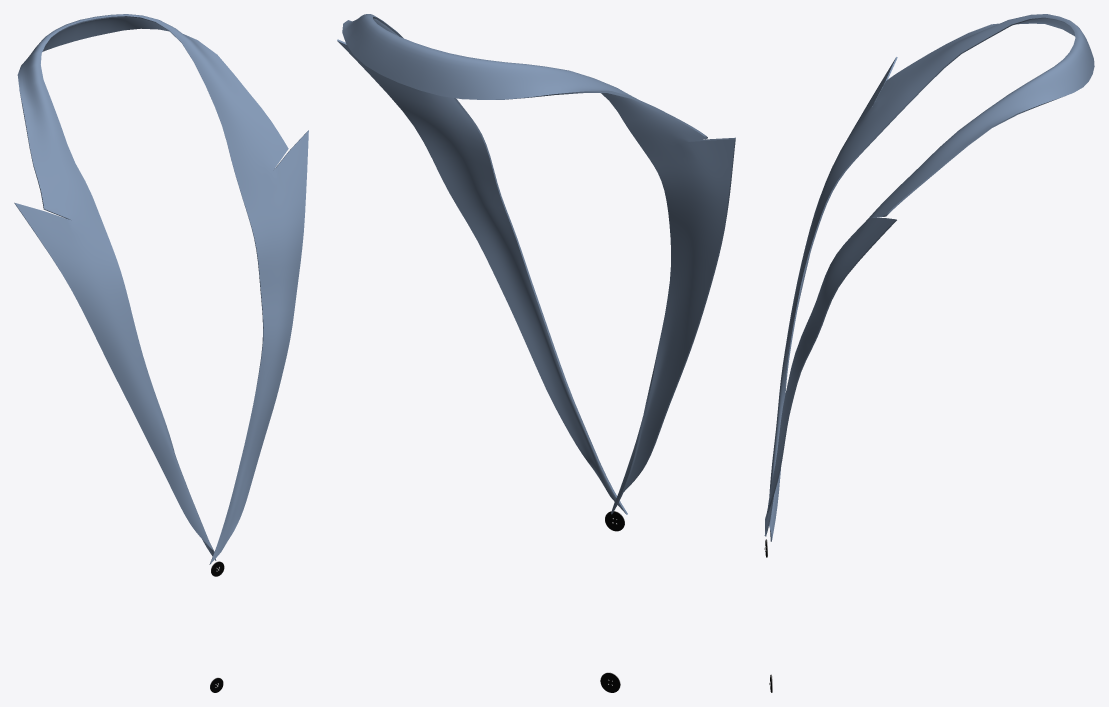
Rendered from SM_CarlosSA_Jacket_SingleBreasted_Lapel_Peak7CM.fbx.
3 renders of one model, left to right at view 1: azimuth 30°, elevation 25°; view 2: azimuth 150°, elevation 25°; view 3: azimuth 270°, elevation 25°, orthographic. The views are drawn at different scales.
Parts seen in each view (by area): view 1: SM_CarlosSA_Jacket_SingleBreasted_Lapel_Peak7CM; view 2: SM_CarlosSA_Jacket_SingleBreasted_Lapel_Peak7CM; view 3: SM_CarlosSA_Jacket_SingleBreasted_Lapel_Peak7CM.
Part boxes in pixels (x1=…): SM_CarlosSA_Jacket_SingleBreasted_Lapel_Peak7CM: x1=14, y1=14, x2=308, y2=692; SM_CarlosSA_Jacket_SingleBreasted_Lapel_Peak7CM: x1=337, y1=14, x2=735, y2=692; SM_CarlosSA_Jacket_SingleBreasted_Lapel_Peak7CM: x1=764, y1=14, x2=1094, y2=692.
Size of the model in its own units: 0.3042 by 0.5674 by 0.2594.
